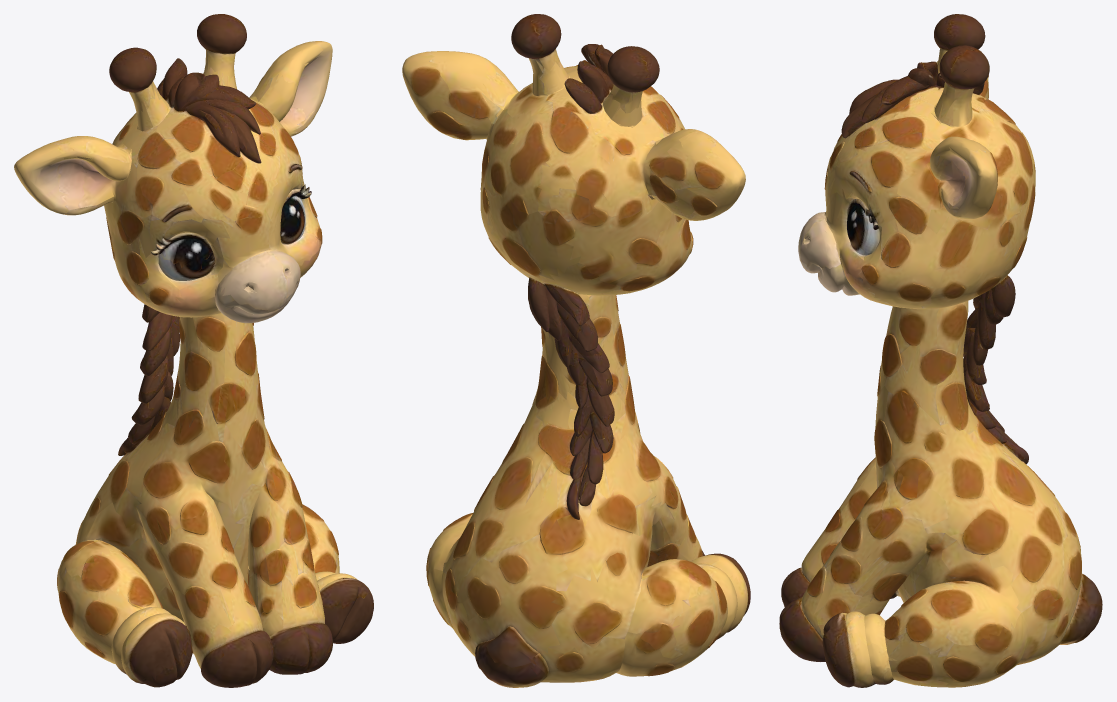
The picture shows the model from 3 angles, left to right: view 1: azimuth 30°, elevation 25°; view 2: azimuth 150°, elevation 25°; view 3: azimuth 270°, elevation 25°; orthographic projection. The views are drawn at different scales.
Parts seen in each view (by area): view 1: output_unwrapped; view 2: output_unwrapped; view 3: output_unwrapped.
Boxes of the visible parts, <box> form: output_unwrapped: <box>14,14,373,687</box>; output_unwrapped: <box>402,14,750,687</box>; output_unwrapped: <box>779,14,1102,687</box>.
Size of the model in its own units: 1.07 by 1.9 by 0.9275.
1 material, 1 textured.
